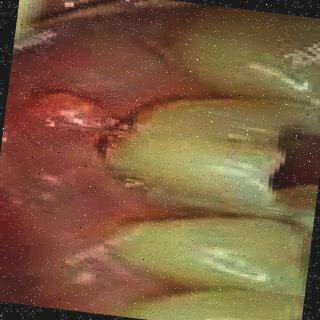Gum Swelling: (52, 19, 207, 117)
cavities: (223, 119, 320, 211)
